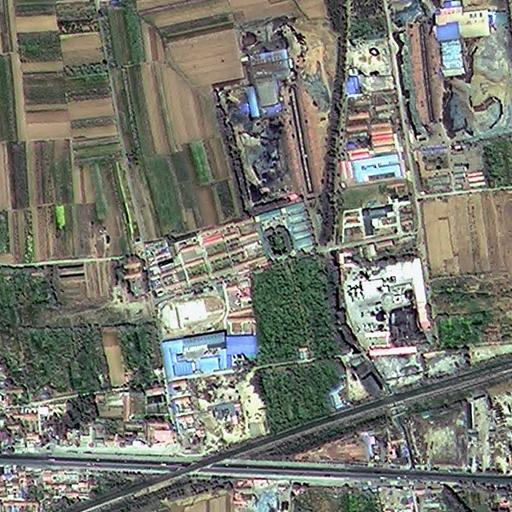school: (157, 278, 256, 332)
